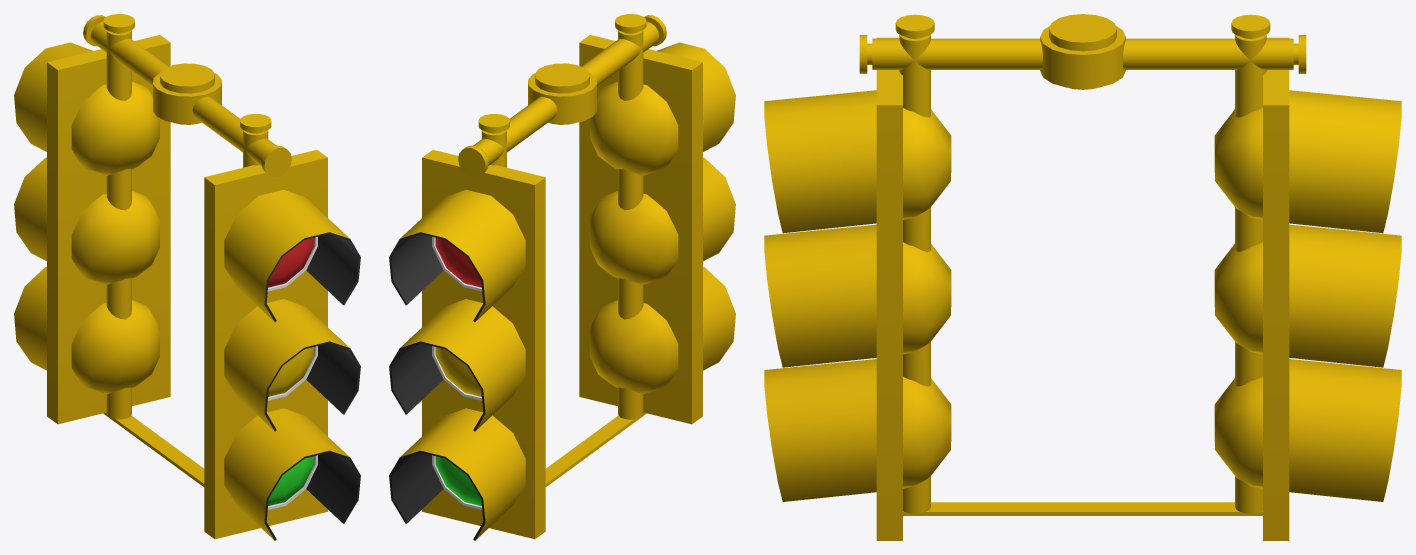
The model's file is traffic_light_02_base_large_yellow.glb.
3 renders of one model, left to right at view 1: azimuth 30°, elevation 25°; view 2: azimuth 150°, elevation 25°; view 3: azimuth 270°, elevation 25°, orthographic. The views are drawn at different scales.
Visible parts, largest first — view 1: traffic_light_02_lights_large_yellow.001, traffic_light_02_lights_large_yellow, traffic_light_02_base_large_yellow; view 2: traffic_light_02_lights_large_yellow, traffic_light_02_lights_large_yellow.001, traffic_light_02_base_large_yellow; view 3: traffic_light_02_lights_large_yellow, traffic_light_02_lights_large_yellow.001, traffic_light_02_base_large_yellow.
Part boxes in pixels (<box>): traffic_light_02_lights_large_yellow.001: <box>14,14,170,424</box>; traffic_light_02_lights_large_yellow: <box>204,114,360,540</box>; traffic_light_02_base_large_yellow: <box>83,15,291,486</box>; traffic_light_02_lights_large_yellow: <box>579,14,735,424</box>; traffic_light_02_lights_large_yellow.001: <box>389,114,545,540</box>; traffic_light_02_base_large_yellow: <box>458,15,666,486</box>; traffic_light_02_lights_large_yellow: <box>764,14,951,540</box>; traffic_light_02_lights_large_yellow.001: <box>1214,14,1401,540</box>; traffic_light_02_base_large_yellow: <box>859,14,1306,515</box>.
Bounding box in the file's own units: 0.356 × 1.2 × 1.41.
1 material, 1 textured.
